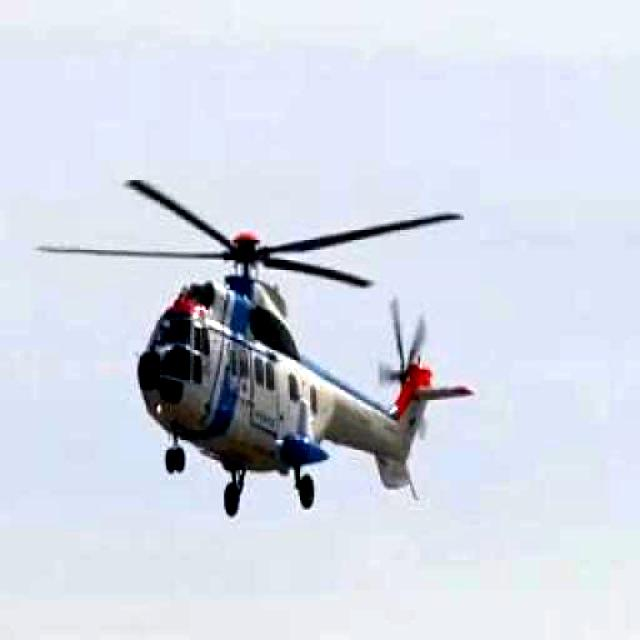drone: (8, 166, 514, 536)
